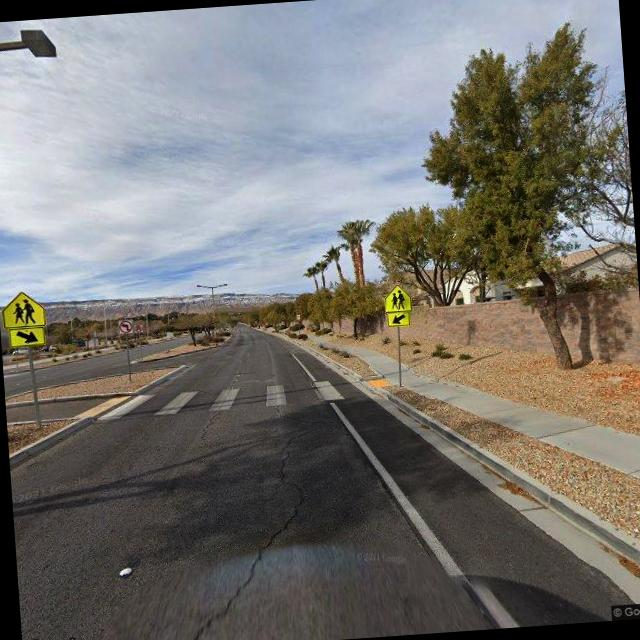pothole: (150, 412, 324, 640), (197, 407, 222, 443)
